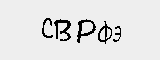В: (53, 17, 72, 41)
Р: (74, 19, 95, 44)
С: (41, 17, 53, 39)
Ф: (98, 20, 112, 46)
Э: (110, 24, 123, 44)
